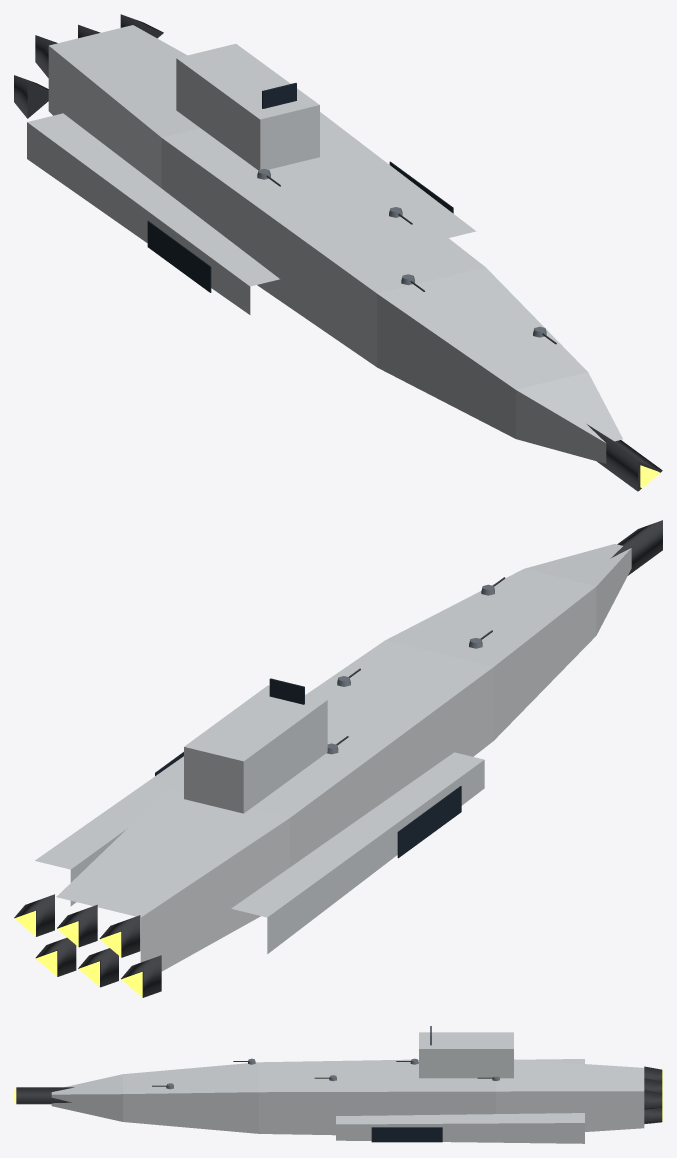
Rendered from space_ship_battleship_mk2_lod2.glb.
3 views of the same model, one above another, from view 1: azimuth 30°, elevation 25°; view 2: azimuth 150°, elevation 25°; view 3: azimuth 270°, elevation 25° (orthographic). The views are drawn at different scales.
Visible parts, largest first — view 1: body, main_gun, hangar_r, engine_0; view 2: body, hangar_r, main_gun, engine_1, engine_3, engine_0, engine_5, engine_4, engine_2; view 3: body, hangar_l, main_gun, engine_5, engine_4, engine_3, engine_1.
Boxes of the visible parts, <box> form: body: <box>27,25,622,463</box>; main_gun: <box>587,424,662,491</box>; hangar_r: <box>147,220,211,292</box>; engine_0: <box>14,75,48,118</box>; body: <box>35,544,631,971</box>; hangar_r: <box>397,786,461,858</box>; main_gun: <box>610,520,662,575</box>; engine_1: <box>99,915,140,957</box>; engine_3: <box>57,904,97,947</box>; engine_0: <box>121,955,161,997</box>; engine_5: <box>14,894,54,936</box>; engine_4: <box>35,937,76,976</box>; engine_2: <box>78,948,118,987</box>; body: <box>51,1026,644,1143</box>; hangar_l: <box>371,1127,442,1142</box>; main_gun: <box>14,1087,74,1104</box>; engine_5: <box>644,1090,662,1110</box>; engine_4: <box>644,1108,662,1124</box>; engine_3: <box>644,1078,662,1093</box>; engine_1: <box>644,1066,662,1081</box>.
Bounding box in the file's own units: 28.5 × 19.21 × 117.
